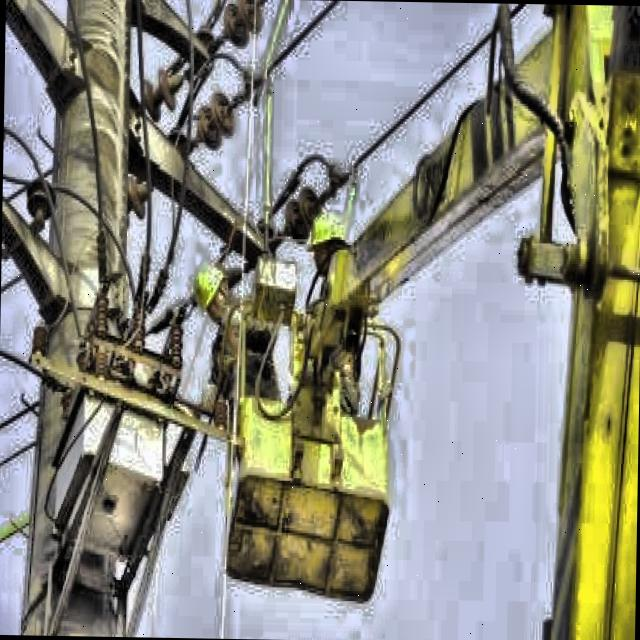helmet: (307, 199, 353, 294), (189, 256, 231, 324)
